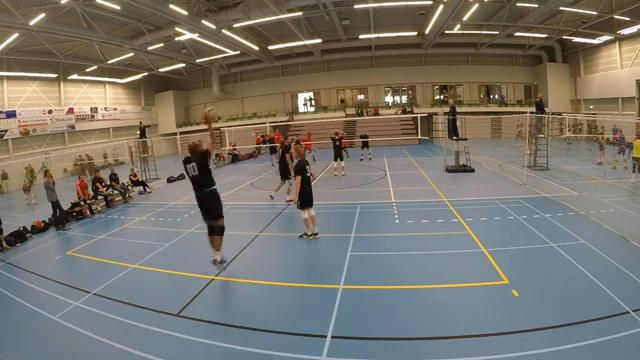Player: (293, 145, 318, 238), (270, 137, 292, 202), (330, 132, 345, 175), (302, 131, 315, 162), (267, 134, 278, 166), (359, 132, 370, 160), (341, 132, 348, 159), (274, 129, 281, 143)
Serve: (177, 111, 234, 271)
ball: (202, 107, 215, 120)
